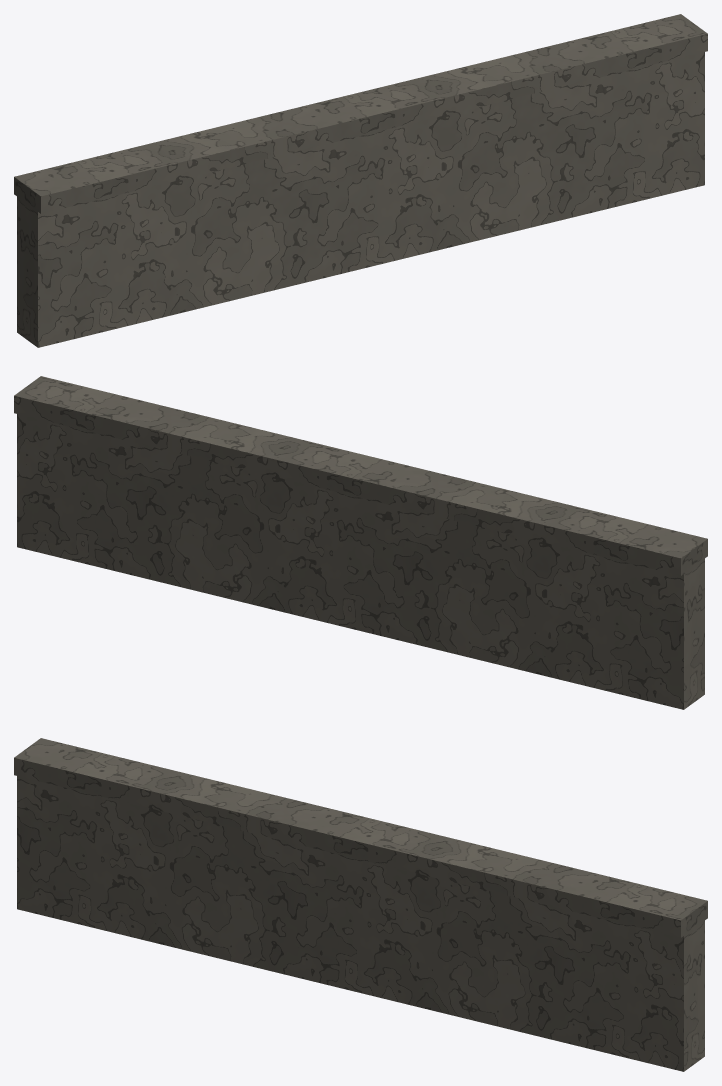
Rendered from parapet_straight_4m.glb.
The picture shows the model from 3 angles, top to bottom: view 1: azimuth 30°, elevation 25°; view 2: azimuth 150°, elevation 25°; view 3: azimuth 330°, elevation 25°; orthographic projection.
Parts seen in each view (by area): view 1: parapet_straight_4m; view 2: parapet_straight_4m; view 3: parapet_straight_4m.
Part boxes in pixels (bbox=[...]): parapet_straight_4m: bbox=[14, 14, 707, 347]; parapet_straight_4m: bbox=[14, 376, 707, 709]; parapet_straight_4m: bbox=[14, 738, 707, 1071].
Bounding box in the file's own units: 4 × 0.88 × 0.28.
1 material, 1 textured.
